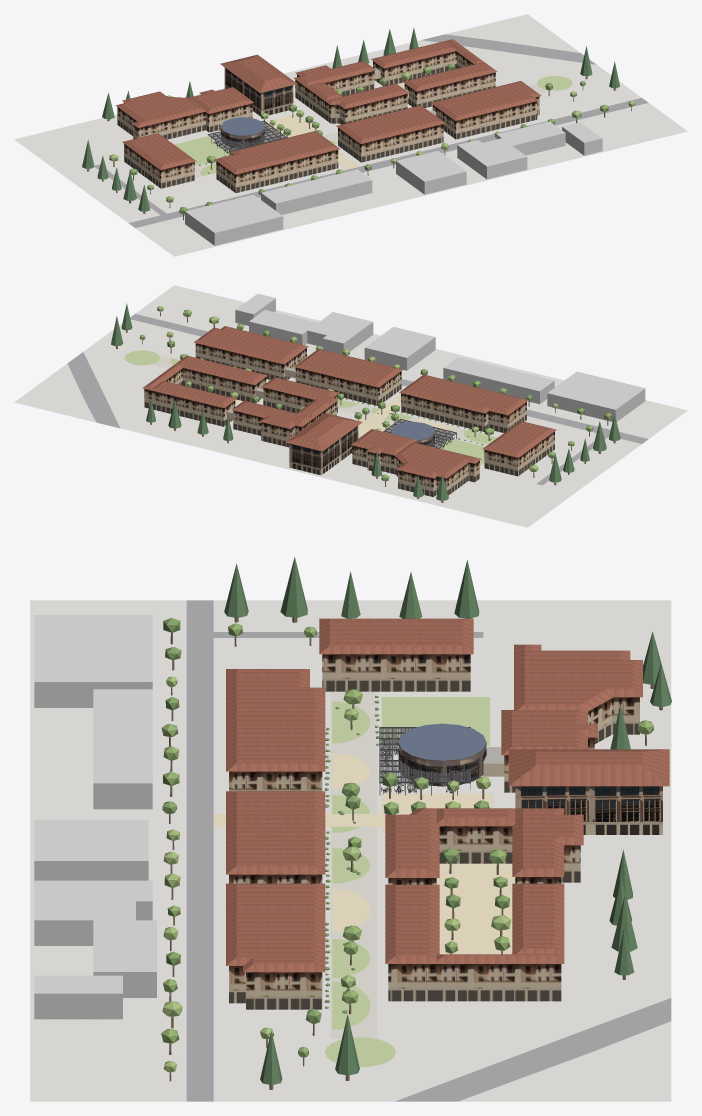
The model's file is gsb_campus.glb.
3 renders of one model, top to bottom at view 1: azimuth 30°, elevation 25°; view 2: azimuth 150°, elevation 25°; view 3: azimuth 270°, elevation 25°, orthographic. The views are drawn at different scales.
Visible parts, largest first — view 1: Ground_Base, Context_SW_Block, Jack_McDonald_Hall, M_McClelland_Building_Roof, M_McClelland_Building, P_Patterson_Building_Roof, Context_S_Block, C_MBA_Class_1968_Roof, Investors_Common_Vidalakis, C_MBA_Class_1968, Jane_Stanford_Way, P_Patterson_Building (+25 smaller); view 2: Ground_Base, Context_SW_Block, Jack_McDonald_Hall, M_McClelland_Building_Roof, M_McClelland_Building, P_Patterson_Building_Roof, C_MBA_Class_1968_Roof, Context_S_Block, Investors_Common_Vidalakis, Z_Zambrano_Hall_Roof, C_MBA_Class_1968, B_Bass_Center (+24 smaller); view 3: Ground_Base, Jane_Stanford_Way, M_McClelland_Building_Roof, Context_SW_Block, P_Patterson_Building_Roof, C_MBA_Class_1968_Roof, Knight_Way, Z_Zambrano_Hall_Roof, Jack_McDonald_Hall, Context_S_Block, Investors_Common_Vidalakis, B_Bass_Center_Roof (+38 smaller).
Boxes of the visible parts, x1,y1,x2,y2 form: Ground_Base: (14,14,687,256); Context_SW_Block: (185,194,283,245); Jack_McDonald_Hall: (261,169,372,214); M_McClelland_Building_Roof: (214,131,339,174); M_McClelland_Building: (216,150,338,192); P_Patterson_Building_Roof: (431,81,541,120); Context_S_Block: (396,150,466,194); C_MBA_Class_1968_Roof: (336,105,445,143); Investors_Common_Vidalakis: (457,138,527,179); C_MBA_Class_1968: (338,124,443,162); Jane_Stanford_Way: (128,98,648,227); P_Patterson_Building: (432,96,539,139); Ground_Base: (14,285,687,527); Context_SW_Block: (547,371,645,421); Jack_McDonald_Hall: (443,357,554,404); M_McClelland_Building_Roof: (399,374,528,415); M_McClelland_Building: (401,393,526,432); P_Patterson_Building_Roof: (194,326,308,364); C_MBA_Class_1968_Roof: (294,349,403,387); Context_S_Block: (364,326,435,370); Investors_Common_Vidalakis: (307,312,373,354); Z_Zambrano_Hall_Roof: (395,442,481,478); C_MBA_Class_1968: (295,367,401,405); B_Bass_Center: (289,426,358,475); Ground_Base: (30,600,671,1101); Jane_Stanford_Way: (186,600,213,1101); M_McClelland_Building_Roof: (226,669,325,771); Context_SW_Block: (34,615,152,707); P_Patterson_Building_Roof: (226,883,325,972); C_MBA_Class_1968_Roof: (226,791,325,874); Knight_Way: (330,691,377,1038); Z_Zambrano_Hall_Roof: (514,644,642,711); Jack_McDonald_Hall: (93,689,152,809); Context_S_Block: (34,820,148,880); Investors_Common_Vidalakis: (34,880,152,945); B_Bass_Center_Roof: (508,749,669,786).
Bounding box in the file's own units: 350 × 21.67 × 189.
23 materials, 7 textured.
